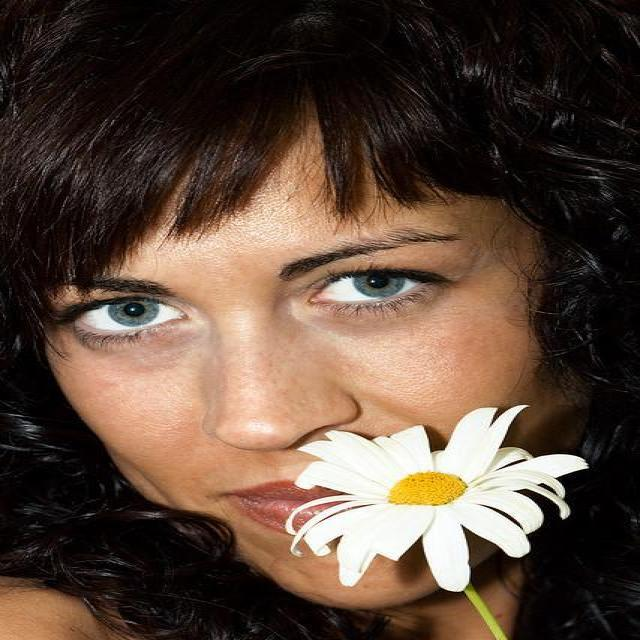no-glass: (51, 263, 442, 339)
